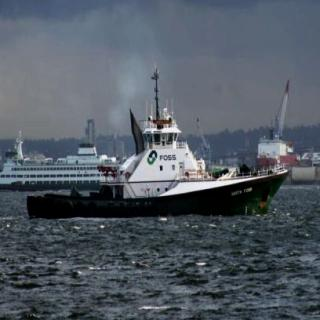Tug Boat: (14, 87, 287, 216)
